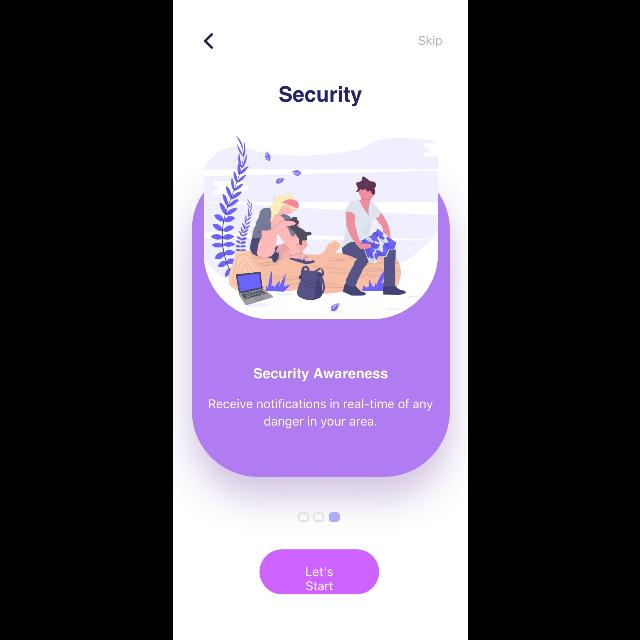icon: (203, 33, 213, 49)
image: (204, 136, 438, 314)
pageindicator: (297, 512, 339, 522)
text: (208, 399, 432, 429), (253, 368, 387, 382), (278, 86, 362, 106), (418, 36, 442, 49)
textbutton: (259, 550, 379, 594)
